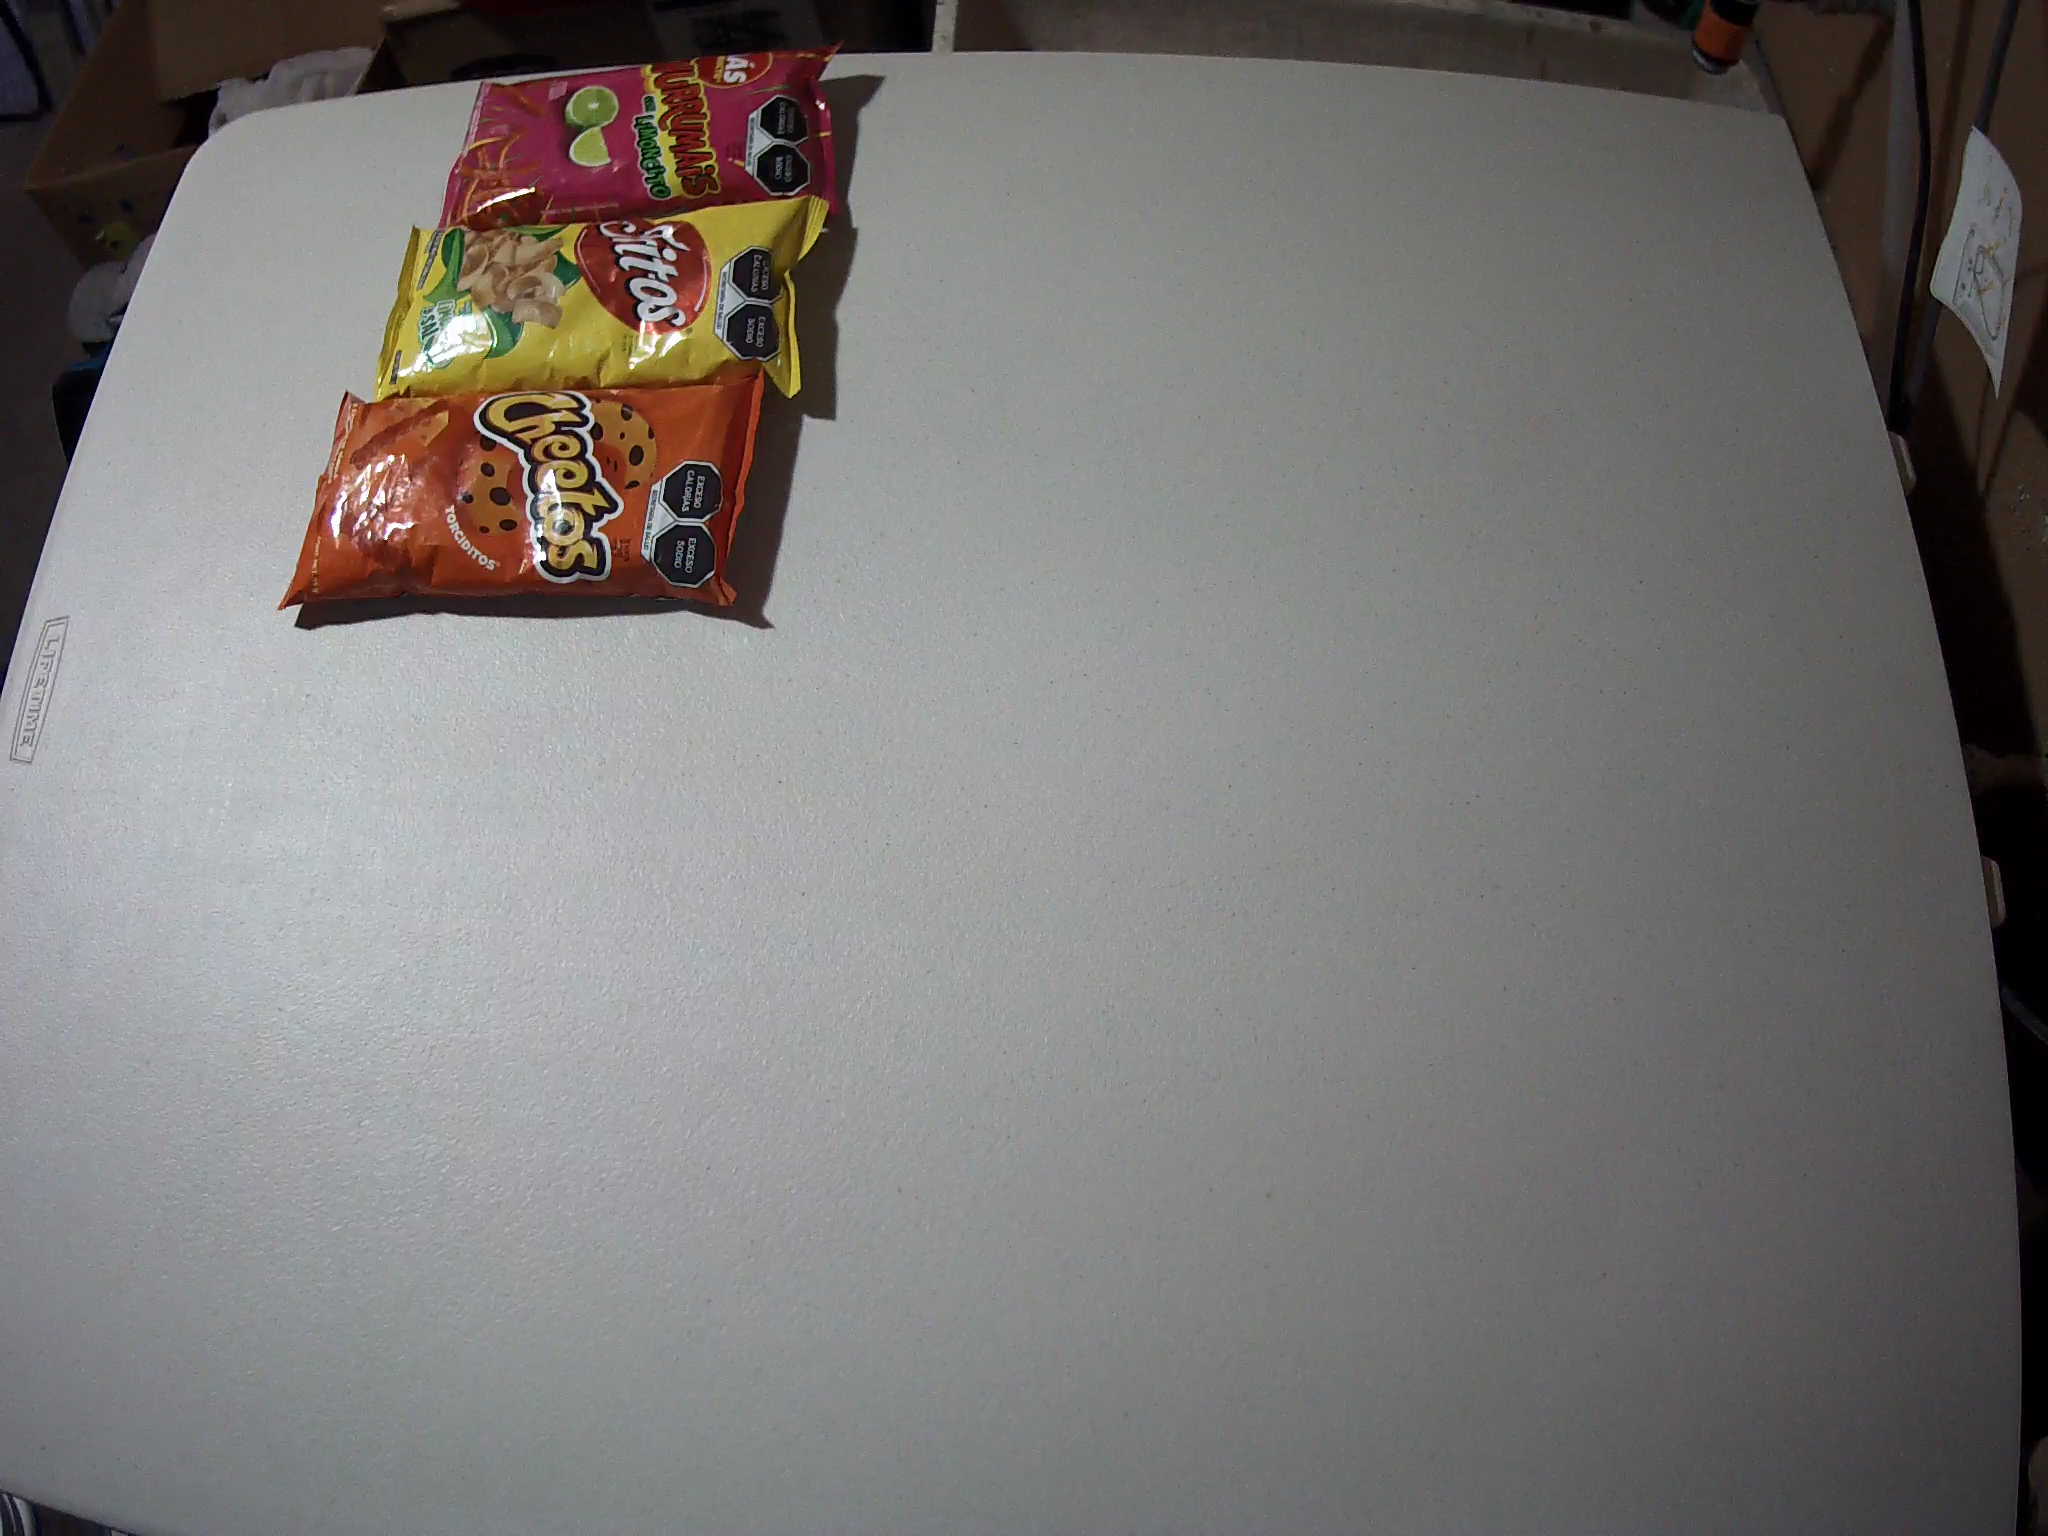CheetosTorciditos_55_F: (279, 369, 764, 608)
Churrumais_70_F: (434, 44, 848, 239)
FritosSalLimon_65_F: (384, 194, 832, 399)
